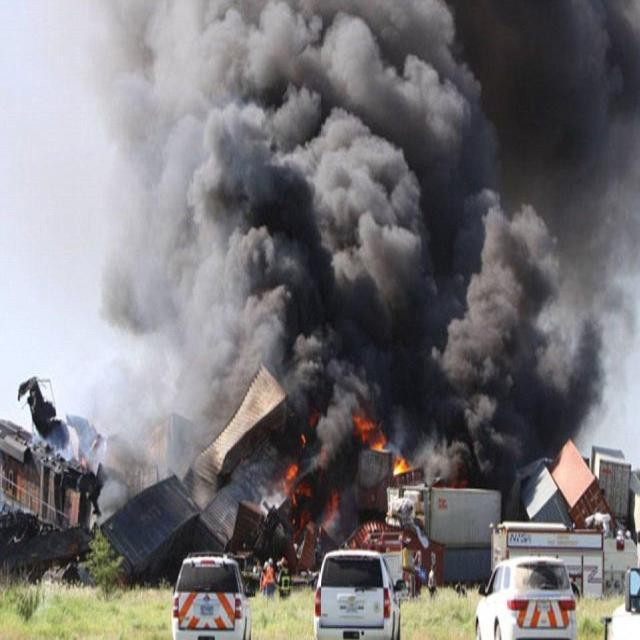Fire: (352, 412, 386, 452), (283, 464, 311, 508), (392, 457, 414, 475)
Smoke: (87, 1, 640, 528), (26, 430, 74, 463)
